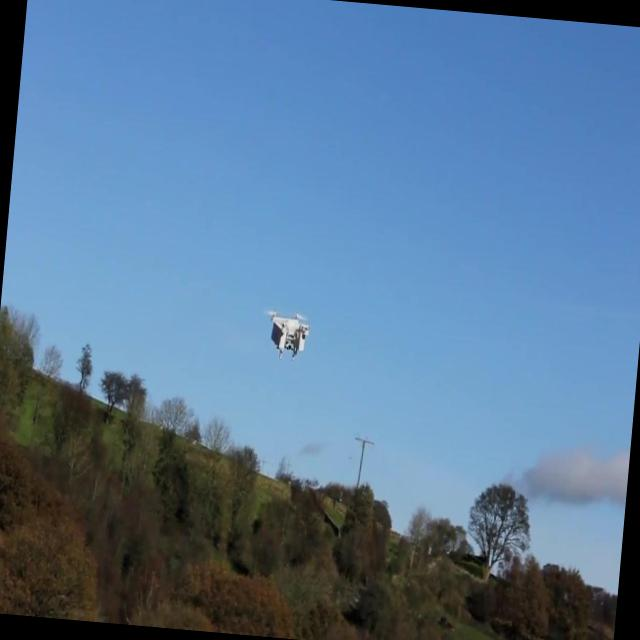drone: (264, 304, 313, 366)
